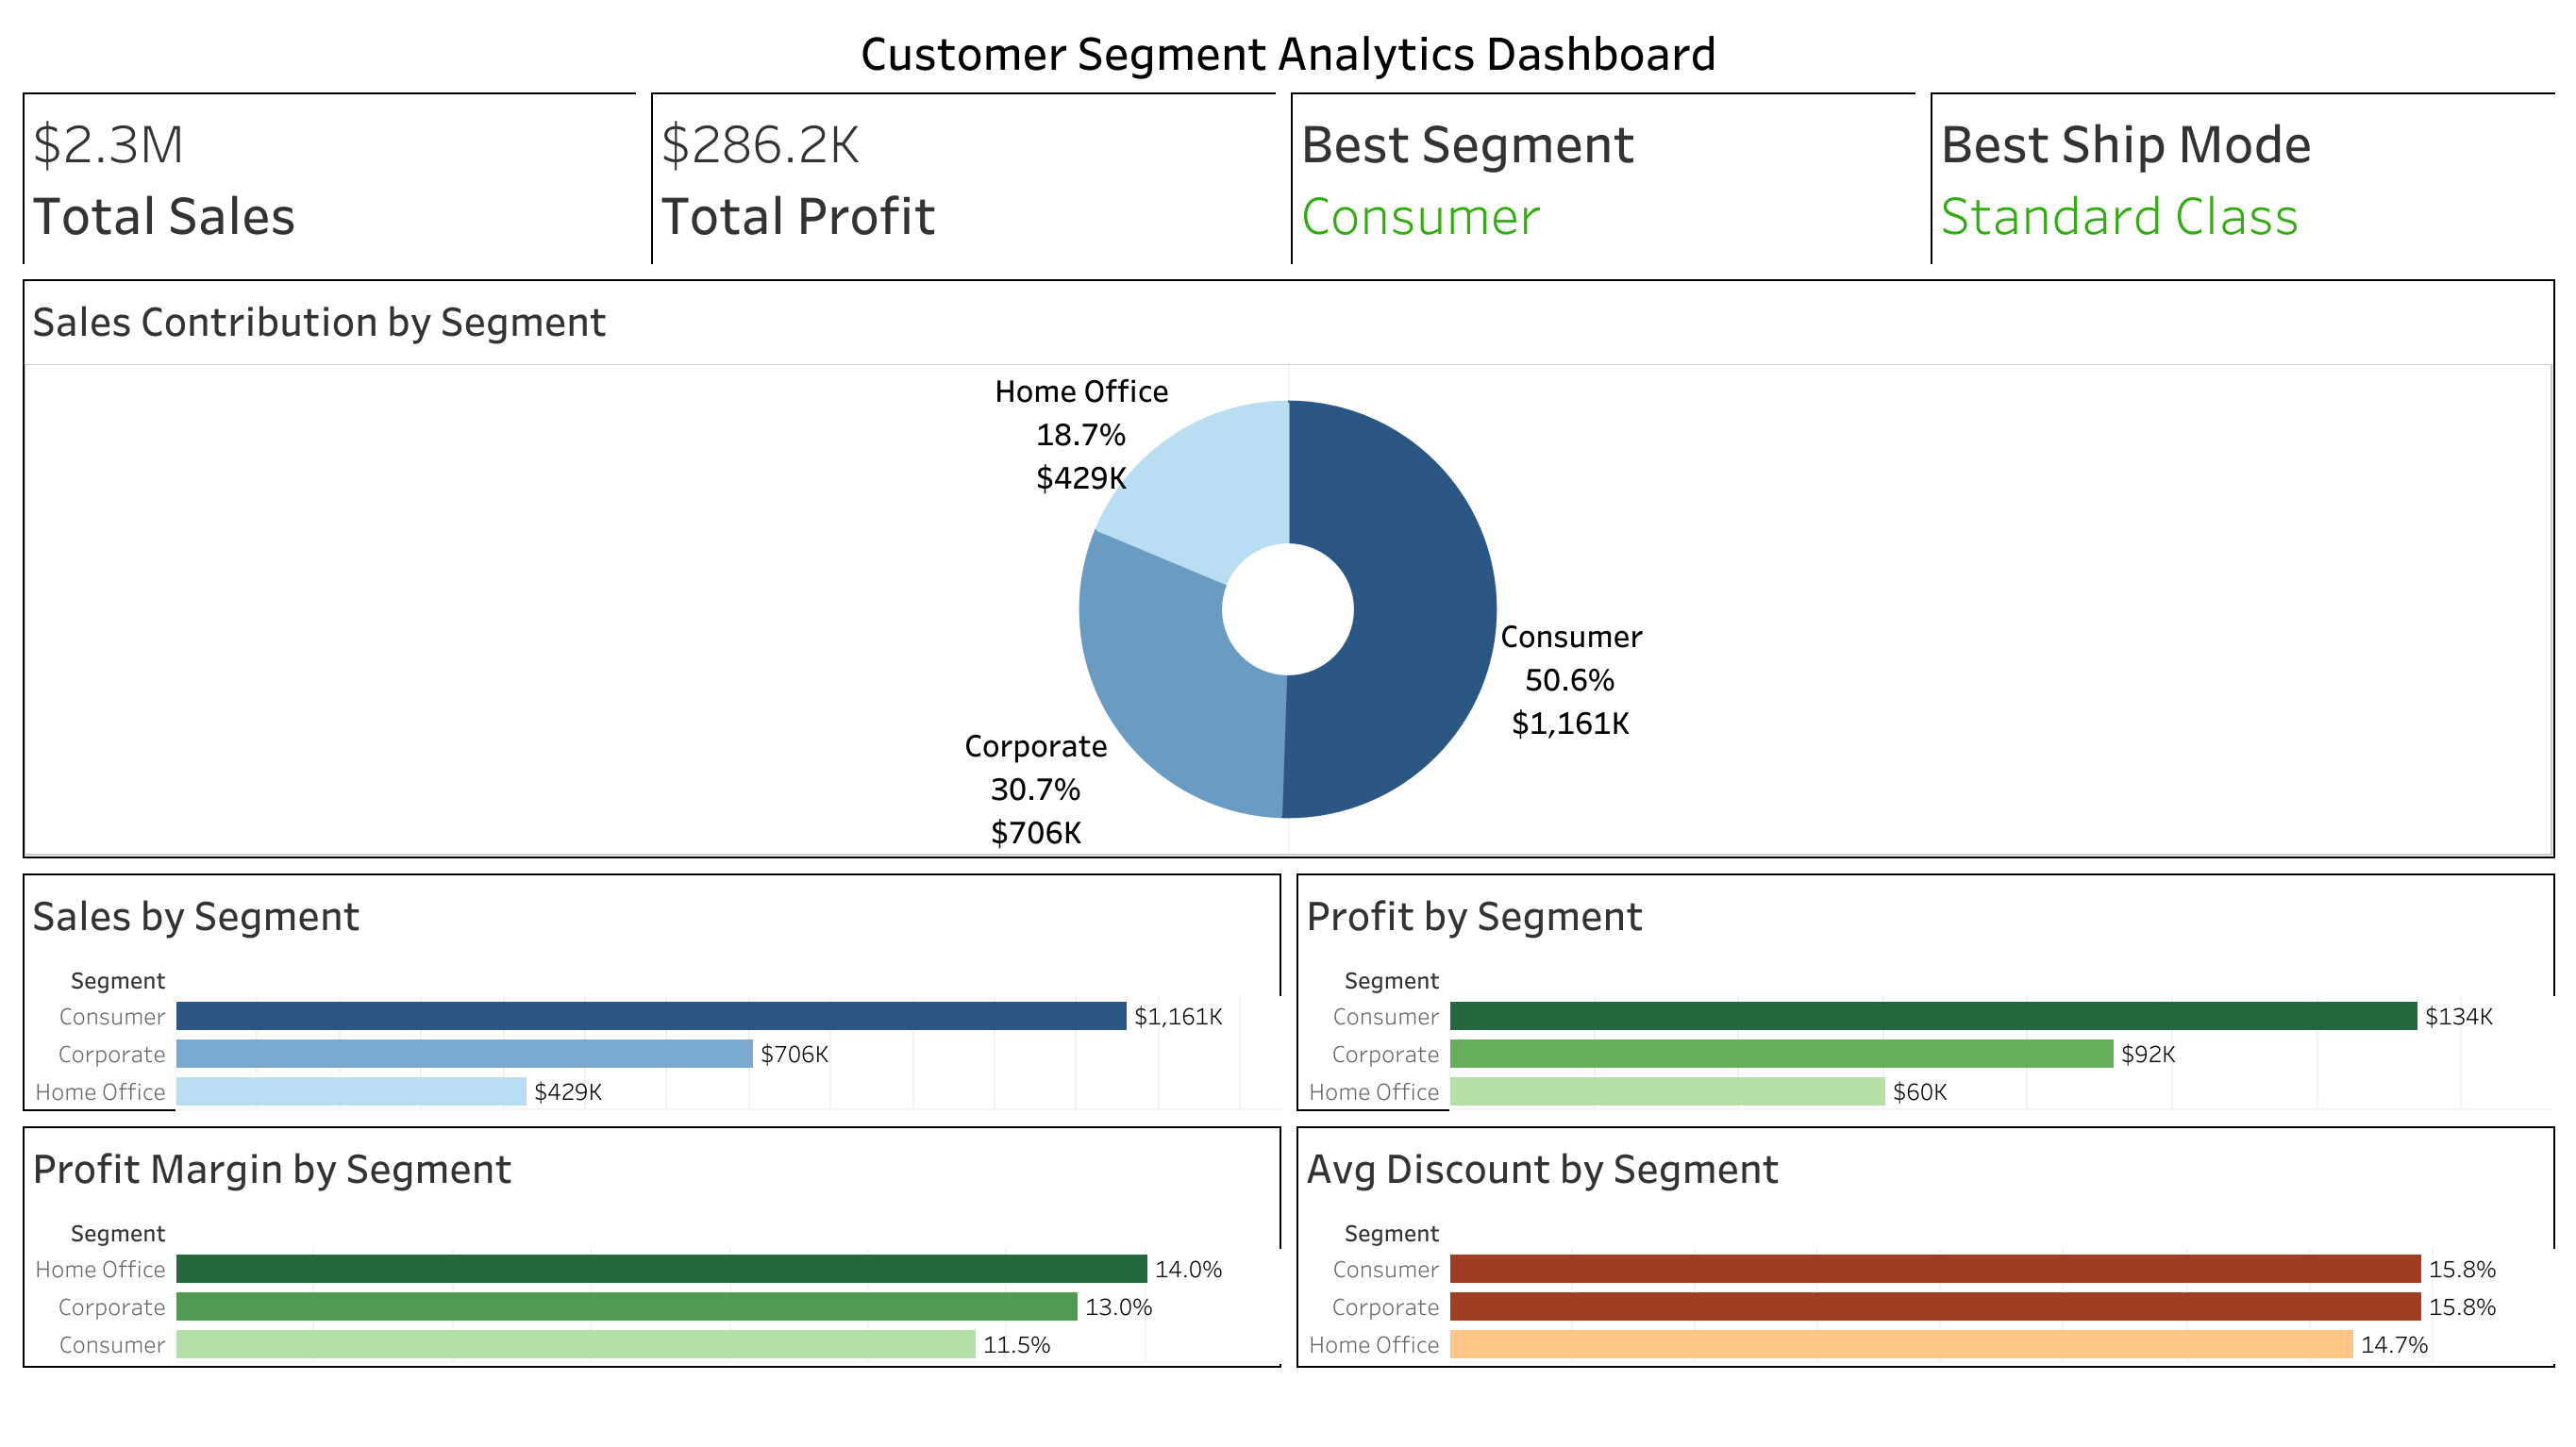

The page's visual inventory and layout, read from the dashboard file:
{"tool":"tableau","page":{"name":"Customer Segment Analytics Dashboard","canvas":[1366,768],"ordinal":0},"visuals":[{"type":"text","box":[8,8,1350,37]},{"type":"worksheet","title":"KPI - Total Sales","mark":"Automatic","box":[8,45,332.9,99]},{"type":"worksheet","title":"KPI - Total Profit","mark":"Automatic","box":[341,45,339,99]},{"type":"worksheet","title":"KPI Best Segment","mark":"Automatic","rows":["Segment"],"box":[680,45,339,99]},{"type":"worksheet","title":"KPI Best Ship Mode","mark":"Automatic","rows":["Ship Mode"],"box":[1019,45,339,99]},{"type":"worksheet","title":"Sales Contribution by Segment","mark":"Pie","cols":["Calculation_2353652078129160","Calculation_2353652078129160"],"box":[8,144,1350,315]},{"type":"worksheet","title":"Sales by Segment","mark":"Automatic","rows":["Segment"],"cols":["Sales"],"box":[8,459,675,134]},{"type":"worksheet","title":"Profit by Segment","mark":"Automatic","rows":["Segment"],"cols":["Profit"],"box":[683,459,675,134]},{"type":"worksheet","title":"Profit Margin by Segment","mark":"Automatic","rows":["Segment"],"cols":["Calculation_2353651724660736"],"box":[8,593,675,136]},{"type":"worksheet","title":"Avg Discount by Segment","mark":"Automatic","rows":["Segment"],"cols":["Discount"],"box":[683,593,675,136]}]}

Visuals, with their boxes in screenshot pixels (x1, y1, x2, y2), scaled from the page's 1366x768 canvas onto the 2576x1447 screenshot:
text: Rect(15, 15, 2561, 85)
"KPI - Total Sales" worksheet: Rect(15, 85, 643, 272)
"KPI - Total Profit" worksheet: Rect(644, 85, 1282, 272)
"KPI Best Segment" worksheet: Rect(1282, 85, 1922, 272)
"KPI Best Ship Mode" worksheet: Rect(1922, 85, 2561, 272)
"Sales Contribution by Segment" worksheet (Pie marks): Rect(15, 272, 2561, 865)
"Sales by Segment" worksheet: Rect(15, 865, 1288, 1117)
"Profit by Segment" worksheet: Rect(1288, 865, 2561, 1117)
"Profit Margin by Segment" worksheet: Rect(15, 1117, 1288, 1373)
"Avg Discount by Segment" worksheet: Rect(1288, 1117, 2561, 1373)
